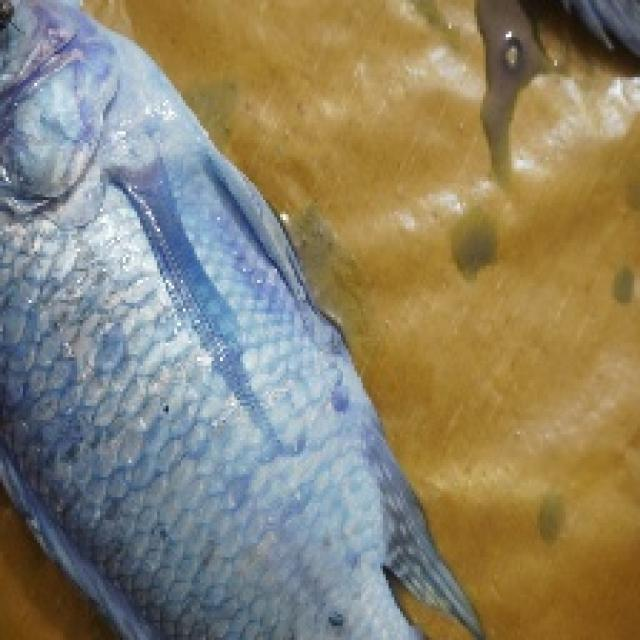Non-Fresh: (0, 0, 335, 595)
